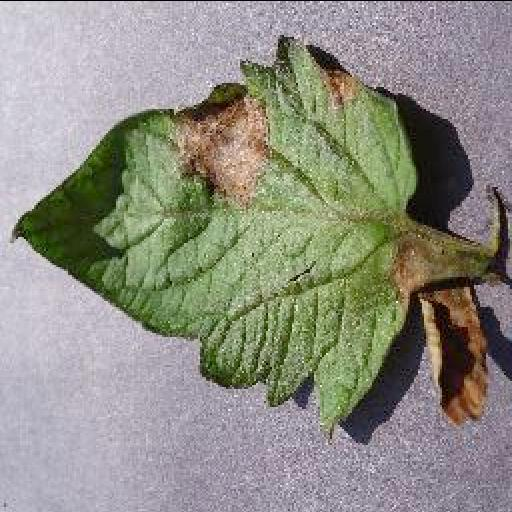disease_tomato: (6, 34, 492, 444)
